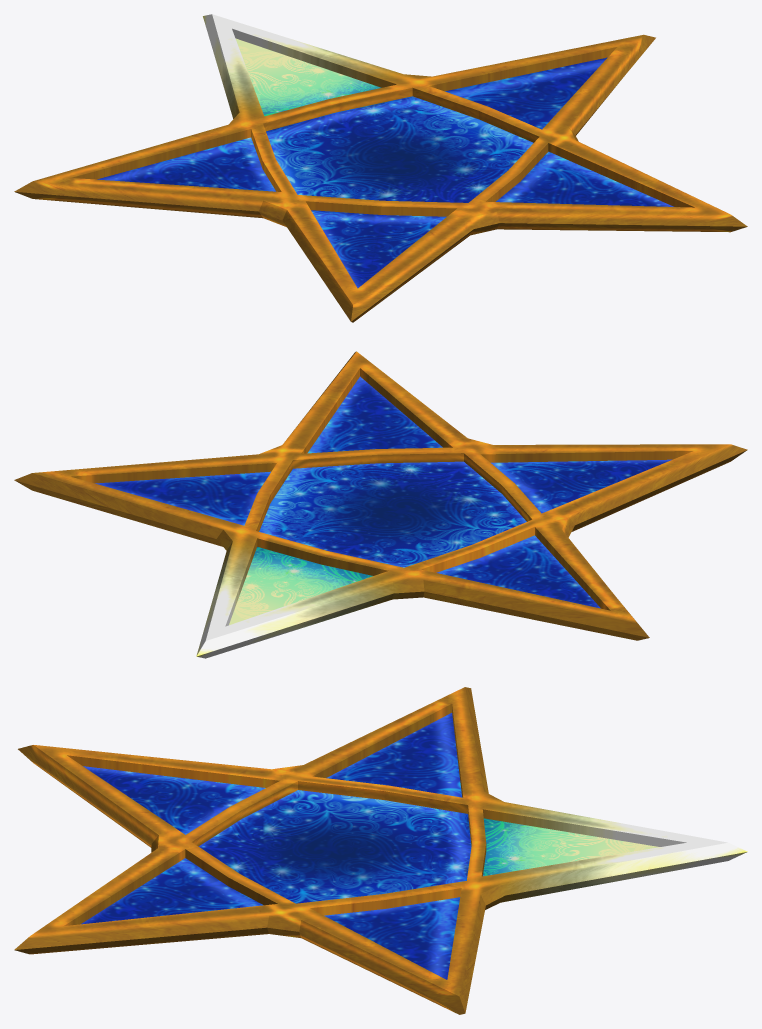
Rendered from star_tx_1.fbx.
The picture shows the model from 3 angles, top to bottom: view 1: azimuth 30°, elevation 25°; view 2: azimuth 150°, elevation 25°; view 3: azimuth 270°, elevation 25°; orthographic projection. The views are drawn at different scales.
Visible parts, largest first — view 1: frame, glass_center, glass_4, glass_1, glass_2, glass_5, glass_3; view 2: frame, glass_center, glass_3, glass_1, glass_5, glass_4, glass_2; view 3: frame, glass_center, glass_5, glass_2, glass_4, glass_1, glass_3.
Part boxes in pixels (x1,y1,x2,y2): frame: (14,14,747,322); glass_center: (266,96,533,202); glass_4: (311,210,446,288); glass_1: (235,38,381,116); glass_2: (445,57,607,129); glass_5: (97,137,275,191); glass_3: (496,151,673,206); frame: (14,351,747,658); glass_center: (259,461,526,567); glass_3: (307,376,442,453); glass_1: (229,547,372,625); glass_5: (436,535,600,608); glass_4: (491,459,671,513); glass_2: (95,471,270,525); frame: (14,687,747,1014); glass_center: (198,790,471,903); glass_5: (326,713,462,797); glass_2: (324,897,460,979); glass_4: (83,766,265,834); glass_1: (483,818,659,876); glass_3: (81,858,263,924).
Bounding box in the file's own units: 9.7 × 0.2551 × 9.25.
